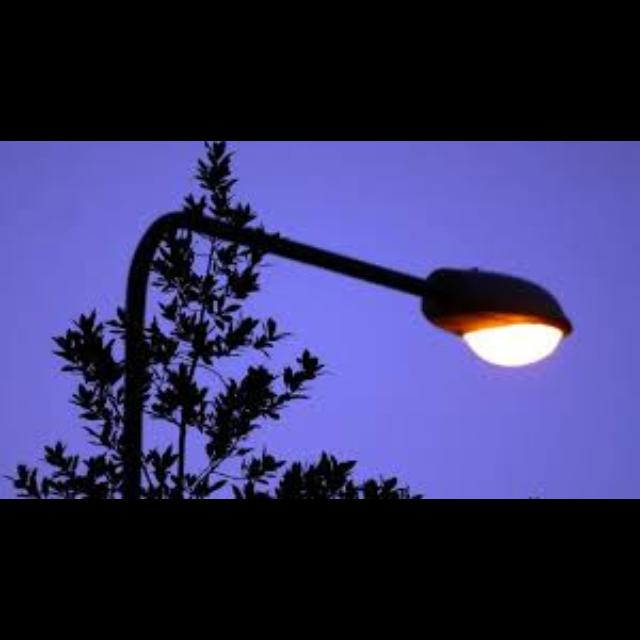Street-Lamp: (94, 177, 578, 499)
